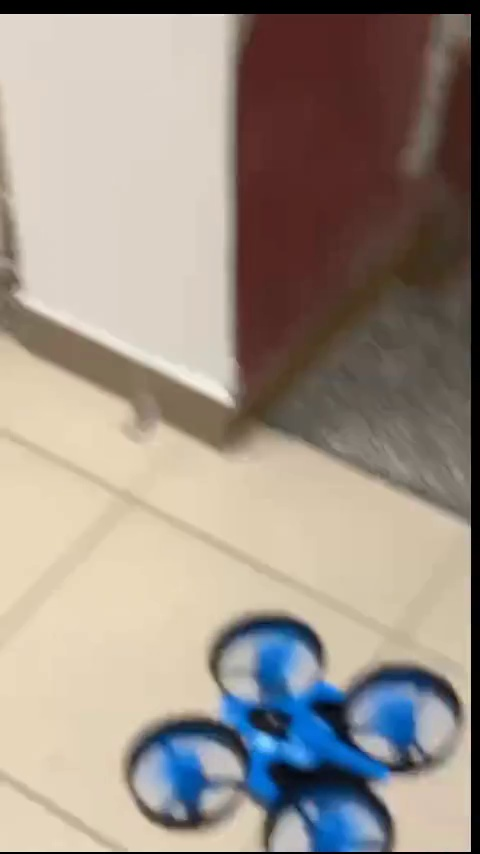drone: (128, 619, 457, 850)
